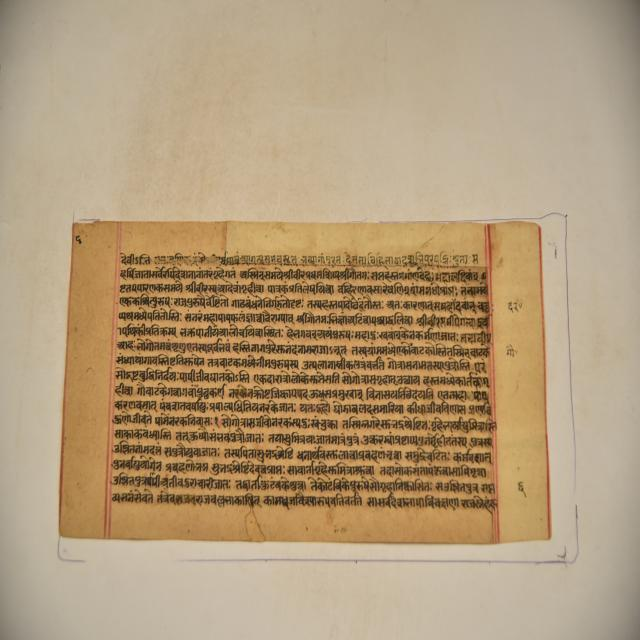text_paragraph: (56, 218, 550, 539)
